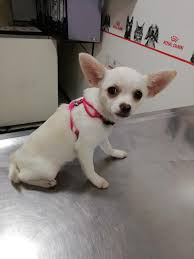chihuahua: (8, 48, 186, 209)
